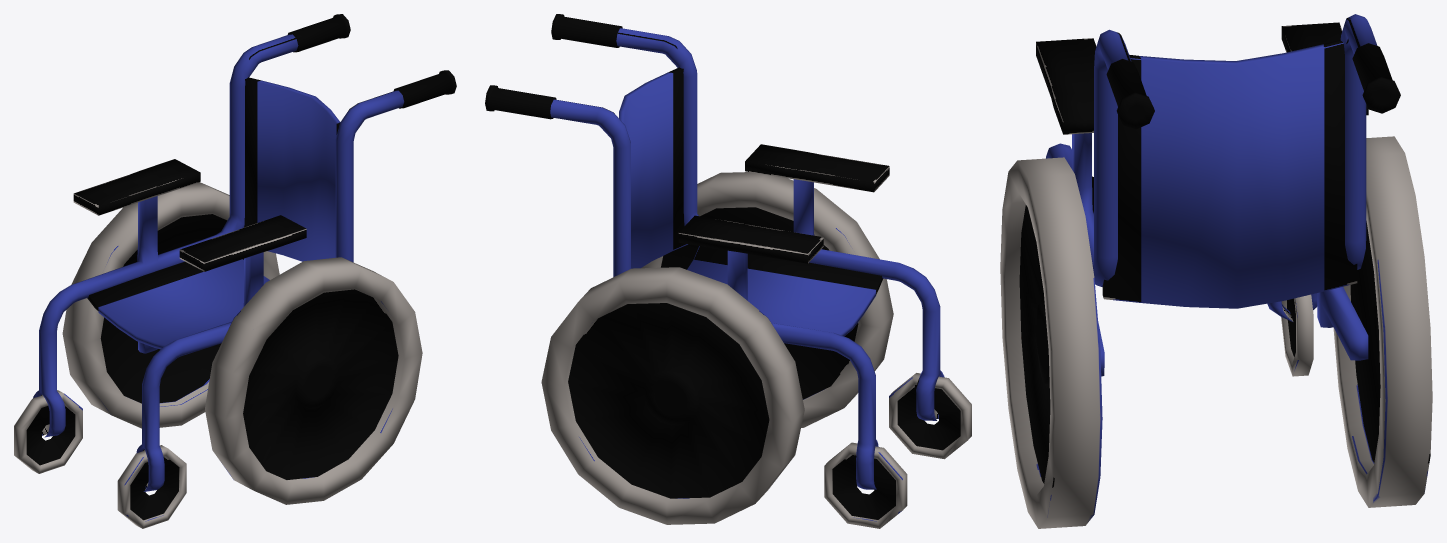
File: Chaise.fbx
The picture shows the model from 3 angles, left to right: view 1: azimuth 30°, elevation 25°; view 2: azimuth 150°, elevation 25°; view 3: azimuth 270°, elevation 25°; orthographic projection. The views are drawn at different scales.
Visible parts, largest first — view 1: Chaise; view 2: Chaise; view 3: Chaise.
Part boxes in pixels (left/top/right/bottom): Chaise: left=14, top=14, right=456, bottom=528; Chaise: left=485, top=14, right=971, bottom=528; Chaise: left=1000, top=14, right=1432, bottom=528.
Bounding box in the file's own units: 4.25 × 3.87 × 2.85.
1 material, 1 textured.
